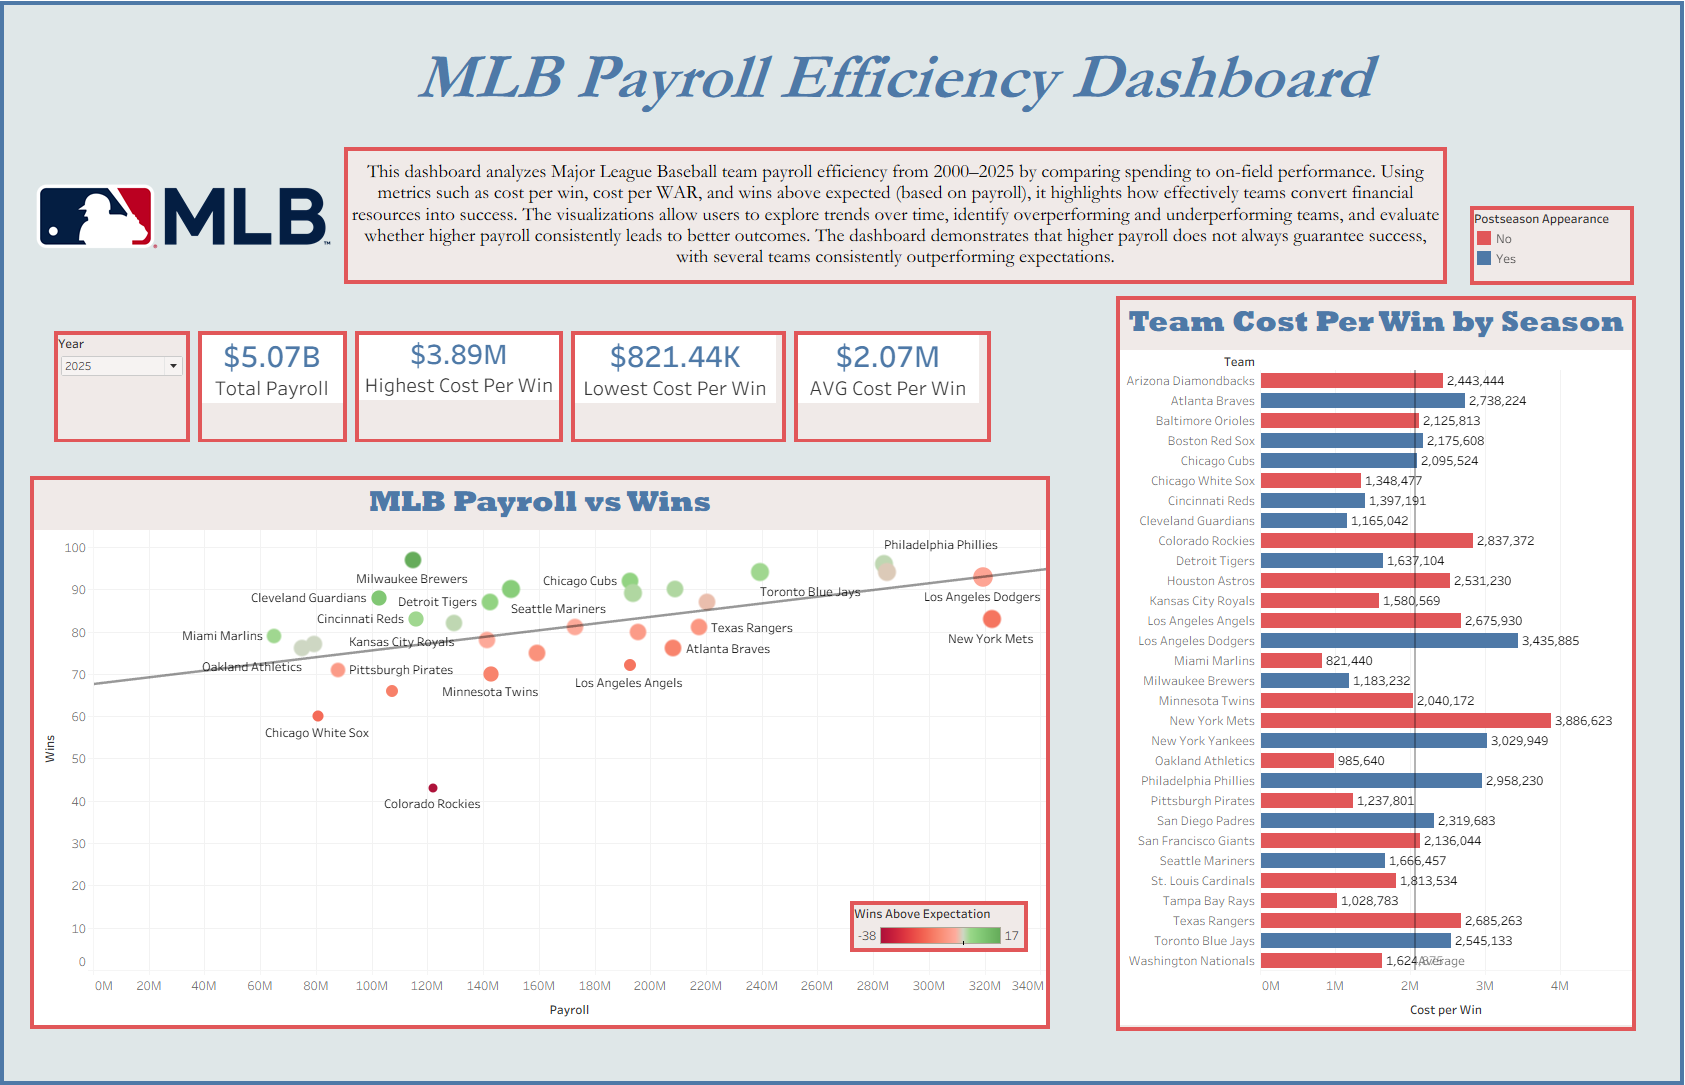

The page's visual inventory and layout, read from the dashboard file:
{"tool":"tableau","page":{"name":"Main Dashboard","canvas":[1700,1100],"ordinal":0},"visuals":[{"type":"text","box":[349,33,1118,103]},{"type":"text","box":[352,154,1103,137]},{"type":"image","param":"Image/1675445568165_23_MLB-PROGRAM-RGB_Horz_Light.png","box":[15,175,352,96]},{"type":"legend","title":"Team Cost Per Win by Season","param":"[federated.1blqmsi0xsdclv11g6j7i10qfeb0].[none:Postseason Appearance:nk]","box":[1478,213,164,79]},{"type":"worksheet","title":"Team Cost Per Win by Season","mark":"Automatic","rows":["Team"],"cols":["Cost per Win"],"box":[1124,303,520,735]},{"type":"filter","title":"KPI - AVG Cost Per Win","param":"[federated.1blqmsi0xsdclv11g6j7i10qfeb0].[none:Year:nk]","box":[58.4,333.7,144,119.8]},{"type":"worksheet","title":"KPI - Total Payroll","mark":"Automatic","box":[202.5,333.7,157,119.8]},{"type":"worksheet","title":"KPI - MAX Cost Per Win","mark":"Automatic","box":[359.5,333.7,216,119.8]},{"type":"worksheet","title":"KPI - MIN Cost Per Win","mark":"Automatic","box":[575.5,333.7,223,119.8]},{"type":"worksheet","title":"KPI - AVG Cost Per Win","mark":"Automatic","box":[798.5,333.7,205,119.8]},{"type":"worksheet","title":"Payroll vs Performance","mark":"Automatic","rows":["Wins"],"cols":["Payroll"],"box":[38.2,482.5,1020,553.4]},{"type":"legend","title":"Payroll vs Performance","param":"[federated.1blqmsi0xsdclv11g6j7i10qfeb0].[sum:Wins Above Expectation:qk]","box":[858.3,908,177.9,51.2]}]}

Visuals, with their boxes in screenshot pixels (x1, y1, x2, y2), scaled from the page's 1700x1100 canvas onto the 1685x1085 screenshot:
text: bbox=[346, 33, 1454, 134]
text: bbox=[349, 152, 1442, 287]
image: bbox=[15, 173, 364, 267]
"Team Cost Per Win by Season" legend: bbox=[1465, 210, 1628, 288]
"Team Cost Per Win by Season" worksheet: bbox=[1114, 299, 1629, 1024]
"KPI - AVG Cost Per Win" filter: bbox=[58, 329, 201, 447]
"KPI - Total Payroll" worksheet: bbox=[201, 329, 356, 447]
"KPI - MAX Cost Per Win" worksheet: bbox=[356, 329, 570, 447]
"KPI - MIN Cost Per Win" worksheet: bbox=[570, 329, 791, 447]
"KPI - AVG Cost Per Win" worksheet: bbox=[791, 329, 995, 447]
"Payroll vs Performance" worksheet: bbox=[38, 476, 1049, 1022]
"Payroll vs Performance" legend: bbox=[851, 896, 1027, 946]
